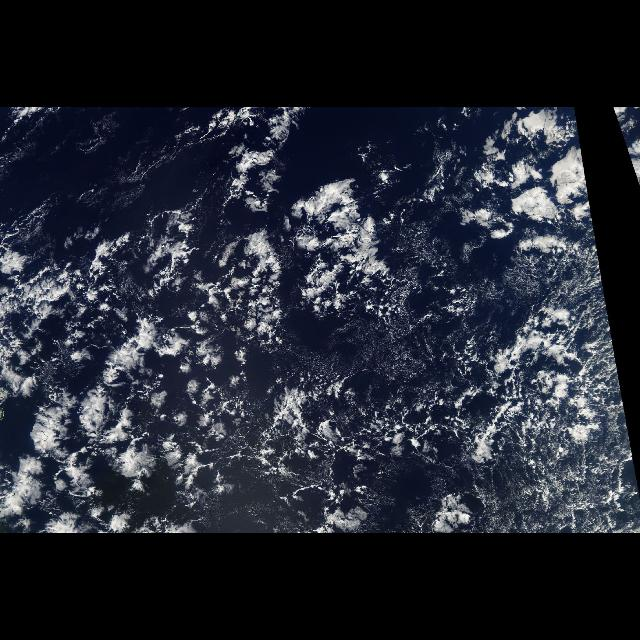Flower: (71, 323, 239, 494)
Gravel: (7, 252, 636, 532)
Sugar: (511, 412, 615, 526)
